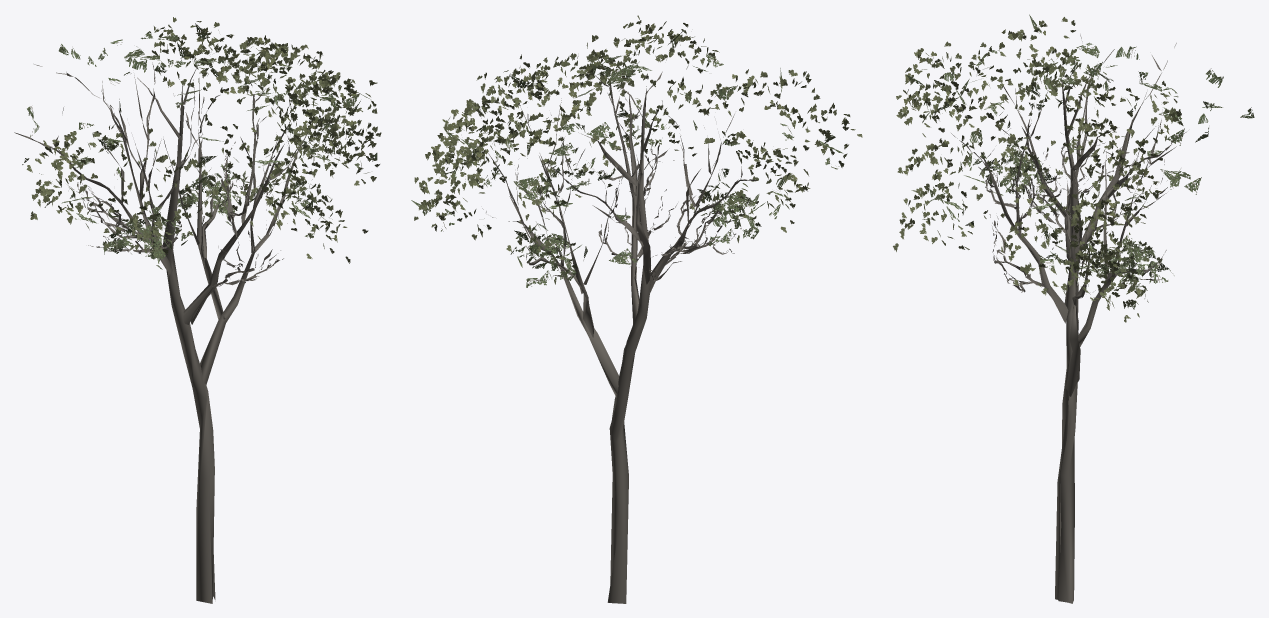
File: jungle_feuillage_l1.glb
3 renders of one model, left to right at view 1: azimuth 30°, elevation 25°; view 2: azimuth 150°, elevation 25°; view 3: azimuth 270°, elevation 25°, orthographic. The views are drawn at different scales.
Parts seen in each view (by area): view 1: Mesh_trunk_0, Mesh_LEAFS_0, Mesh_LEAFS_0.002, Mesh_LEAFS_0.001; view 2: Mesh_trunk_0, Mesh_LEAFS_0, Mesh_LEAFS_0.002, Mesh_LEAFS_0.001; view 3: Mesh_trunk_0, Mesh_LEAFS_0, Mesh_LEAFS_0.002, Mesh_LEAFS_0.001.
Boxes of the visible parts, bbox=[...] form: Mesh_trunk_0: bbox=[14, 32, 330, 603]; Mesh_LEAFS_0: bbox=[67, 17, 379, 269]; Mesh_LEAFS_0.002: bbox=[26, 21, 381, 219]; Mesh_LEAFS_0.001: bbox=[22, 23, 377, 237]; Mesh_trunk_0: bbox=[482, 56, 757, 603]; Mesh_LEAFS_0: bbox=[448, 15, 862, 287]; Mesh_LEAFS_0.002: bbox=[414, 49, 810, 240]; Mesh_LEAFS_0.001: bbox=[411, 31, 843, 264]; Mesh_trunk_0: bbox=[939, 34, 1186, 603]; Mesh_LEAFS_0: bbox=[893, 17, 1174, 295]; Mesh_LEAFS_0.002: bbox=[1001, 46, 1183, 322]; Mesh_LEAFS_0.001: bbox=[905, 14, 1254, 309].
Size of the model in its own units: 46.02 by 69.82 by 40.21.
2 materials, 1 textured.
